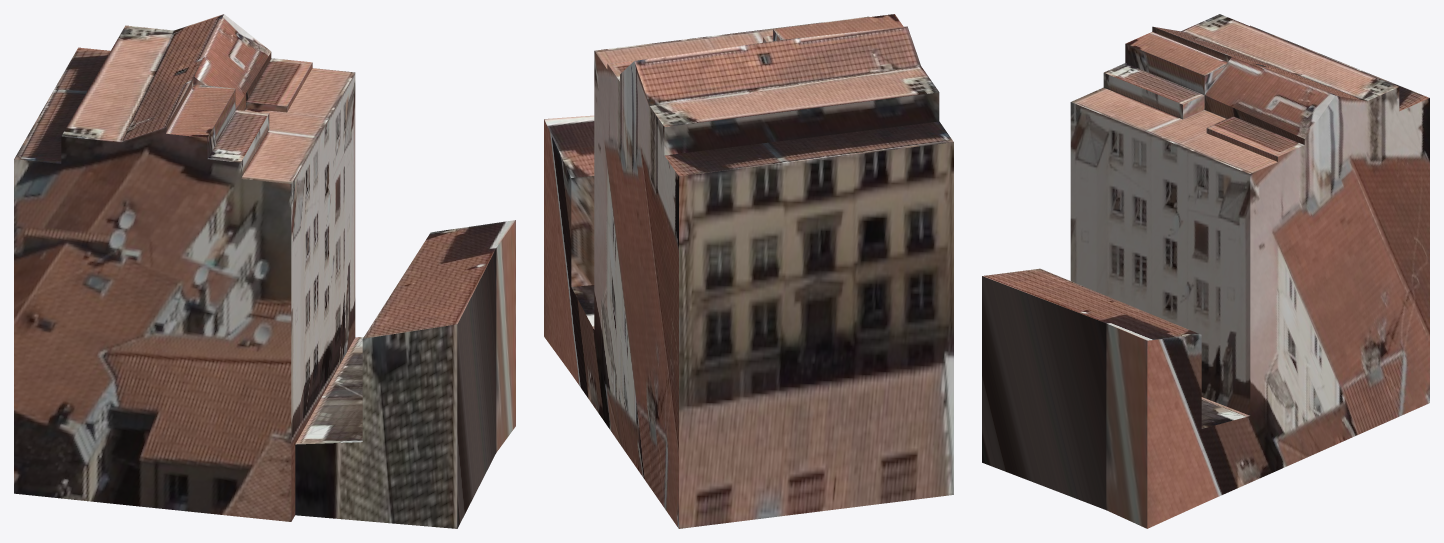
3 views of the same model, side by side, from view 1: azimuth 30°, elevation 25°; view 2: azimuth 150°, elevation 25°; view 3: azimuth 270°, elevation 25° (orthographic). The views are drawn at different scales.
Parts seen in each view (by area): view 1: Z_UP; view 2: Z_UP; view 3: Z_UP.
Boxes of the visible parts, bbox=[...] form: Z_UP: bbox=[14, 14, 515, 528]; Z_UP: bbox=[544, 14, 953, 528]; Z_UP: bbox=[982, 14, 1429, 528].
Size of the model in its own units: 27.36 by 22.49 by 26.12.
2 materials, 1 textured.
